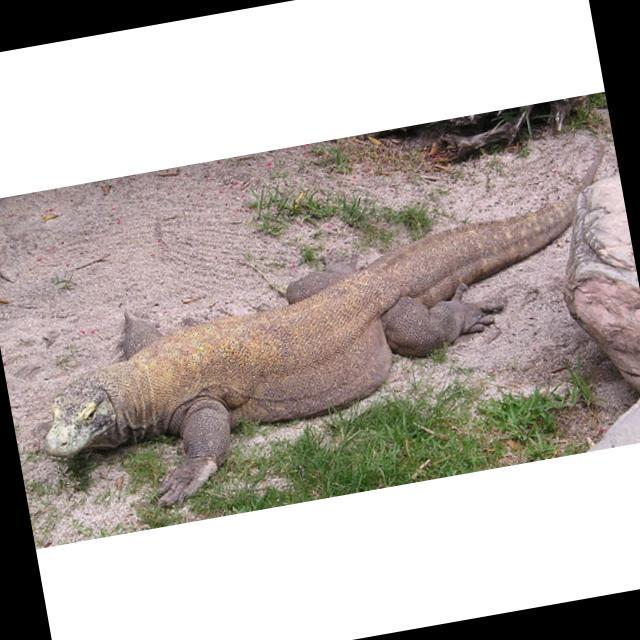KomodoDragon: (4, 135, 640, 529)
